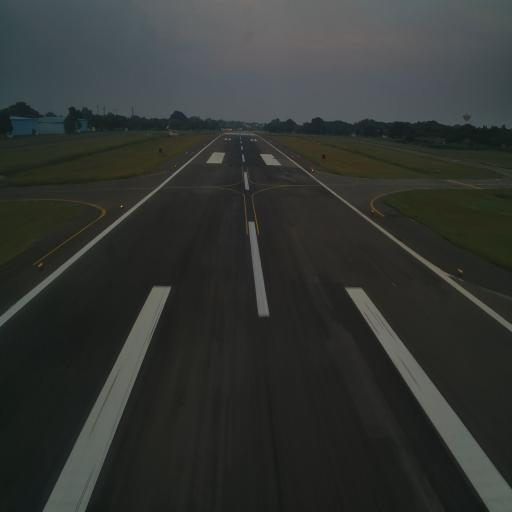on: (456, 266, 464, 278), (37, 258, 44, 270), (370, 204, 376, 216), (120, 201, 124, 210)
